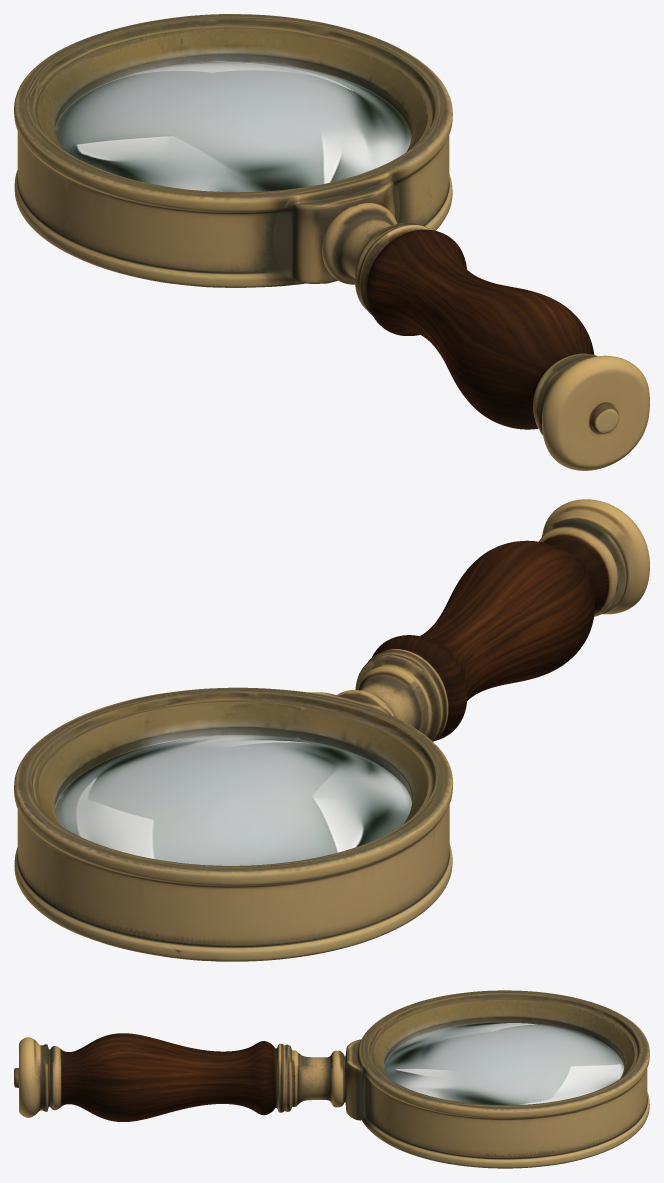
Rendered from magnifier.glb.
The picture shows the model from 3 angles, top to bottom: view 1: azimuth 30°, elevation 25°; view 2: azimuth 150°, elevation 25°; view 3: azimuth 270°, elevation 25°; orthographic projection. The views are drawn at different scales.
Visible parts, largest first — view 1: node_0; view 2: node_0; view 3: node_0.
Boxes of the visible parts, left/top/right/bottom form: node_0: left=14, top=14, right=649, bottom=470; node_0: left=14, top=499, right=649, bottom=961; node_0: left=14, top=990, right=649, bottom=1168.
Size of the model in its own units: 0.5382 by 0.1661 by 1.19.
1 material, 1 textured.
